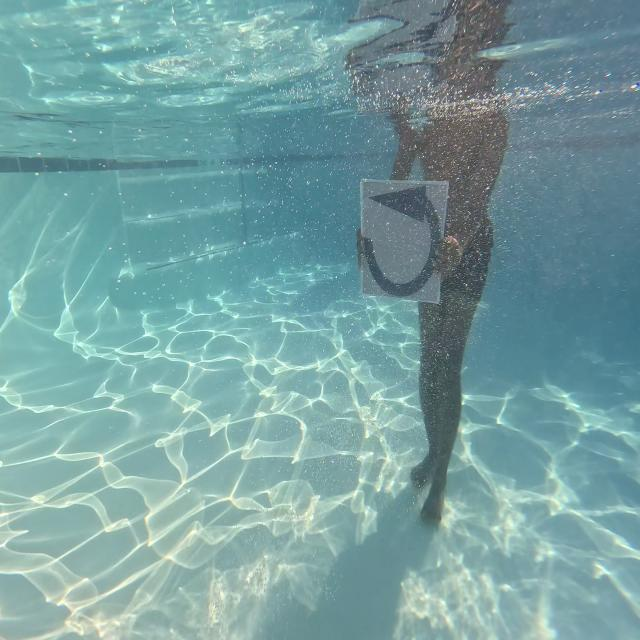blue_side: (357, 172, 448, 306)
